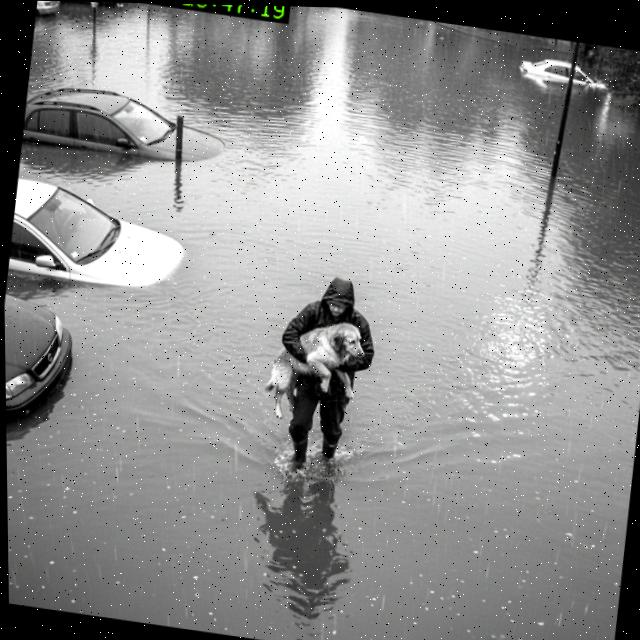civilian: (264, 263, 386, 480)
dog: (259, 301, 376, 428)
